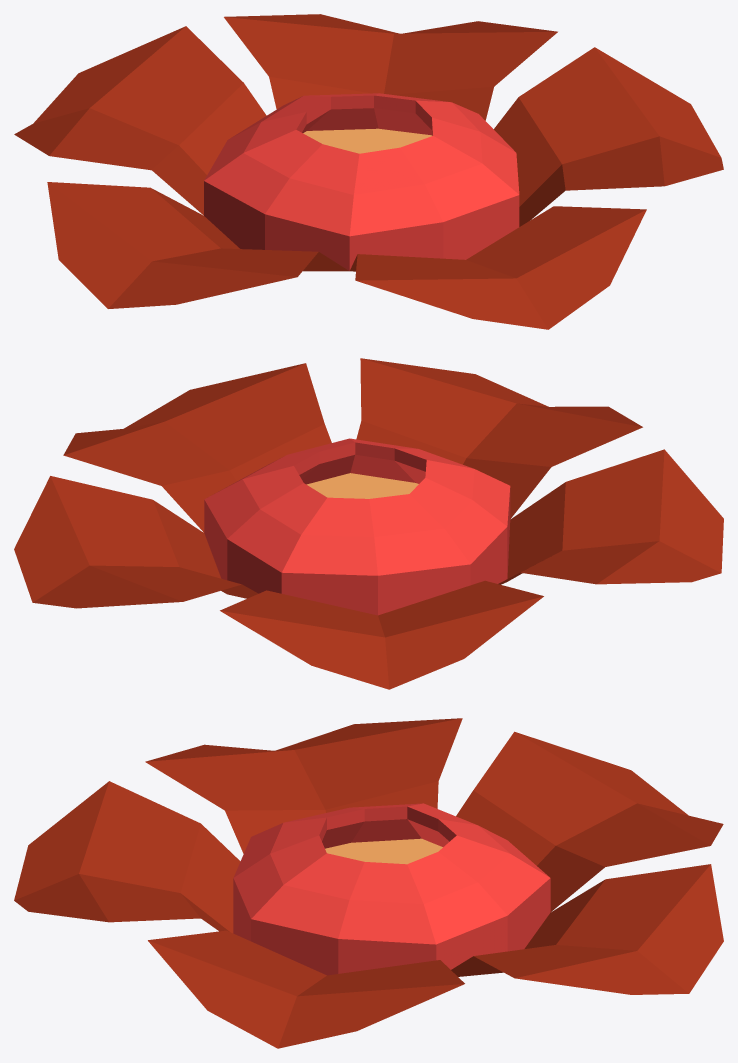
The model's file is bigGroundFlower.fbx.
The picture shows the model from 3 angles, top to bottom: view 1: azimuth 30°, elevation 25°; view 2: azimuth 150°, elevation 25°; view 3: azimuth 270°, elevation 25°; orthographic projection. The views are drawn at different scales.
Visible parts, largest first — view 1: bigGroundFlower; view 2: bigGroundFlower; view 3: bigGroundFlower.
Part boxes in pixels (<box>): bigGroundFlower: <box>14,14,723,329</box>; bigGroundFlower: <box>14,358,723,689</box>; bigGroundFlower: <box>14,718,723,1048</box>.
Bounding box in the file's own units: 135 × 20.34 × 132.
